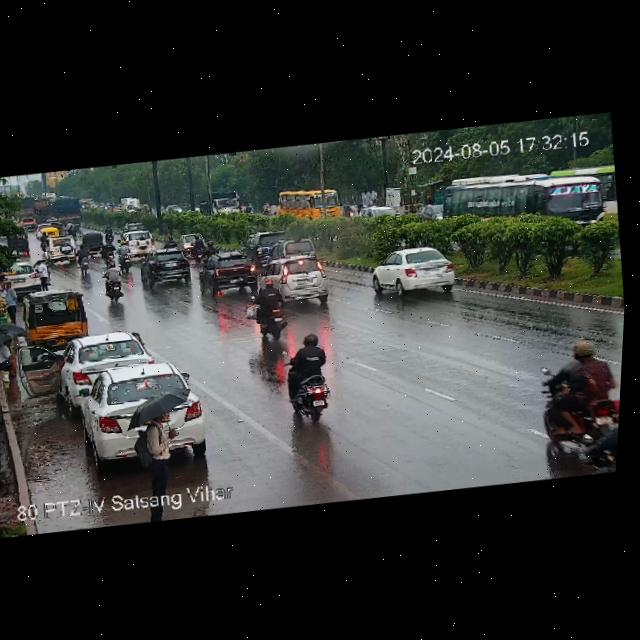bus: (441, 161, 621, 243), (277, 185, 343, 224)
car: (72, 358, 205, 469), (51, 326, 152, 399), (365, 239, 466, 301), (18, 285, 92, 348), (259, 252, 334, 309), (201, 249, 264, 298), (138, 247, 196, 289), (117, 228, 158, 259), (43, 234, 78, 265), (270, 238, 316, 261), (358, 202, 400, 222), (82, 231, 106, 253), (18, 213, 37, 229), (40, 226, 60, 238)
motorcycle: (528, 339, 623, 442), (284, 334, 337, 426), (247, 281, 292, 341), (578, 415, 619, 474), (101, 262, 130, 304), (70, 244, 92, 273), (188, 233, 206, 257)
person: (126, 394, 186, 496), (0, 278, 26, 322)
truck: (33, 192, 84, 229), (197, 189, 241, 218), (118, 196, 144, 216)
